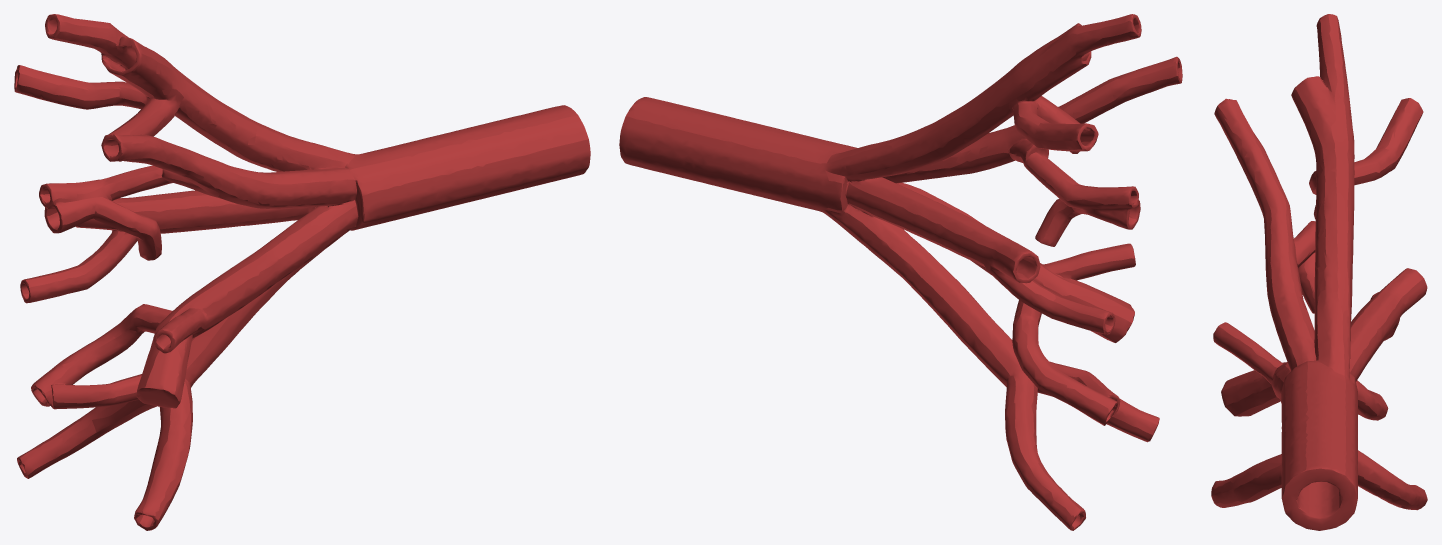
File: renal-artery.glb
3 views of the same model, side by side, from view 1: azimuth 30°, elevation 25°; view 2: azimuth 150°, elevation 25°; view 3: azimuth 270°, elevation 25° (orthographic). The views are drawn at different scales.
Visible parts, largest first — view 1: Lux3D_renal-artery; view 2: Lux3D_renal-artery; view 3: Lux3D_renal-artery.
Part boxes in pixels (<box>): Lux3D_renal-artery: <box>14,14,590,530</box>; Lux3D_renal-artery: <box>619,14,1182,530</box>; Lux3D_renal-artery: <box>1211,14,1427,530</box>.
Bounding box in the file's own units: 1 × 0.9224 × 0.3704.
